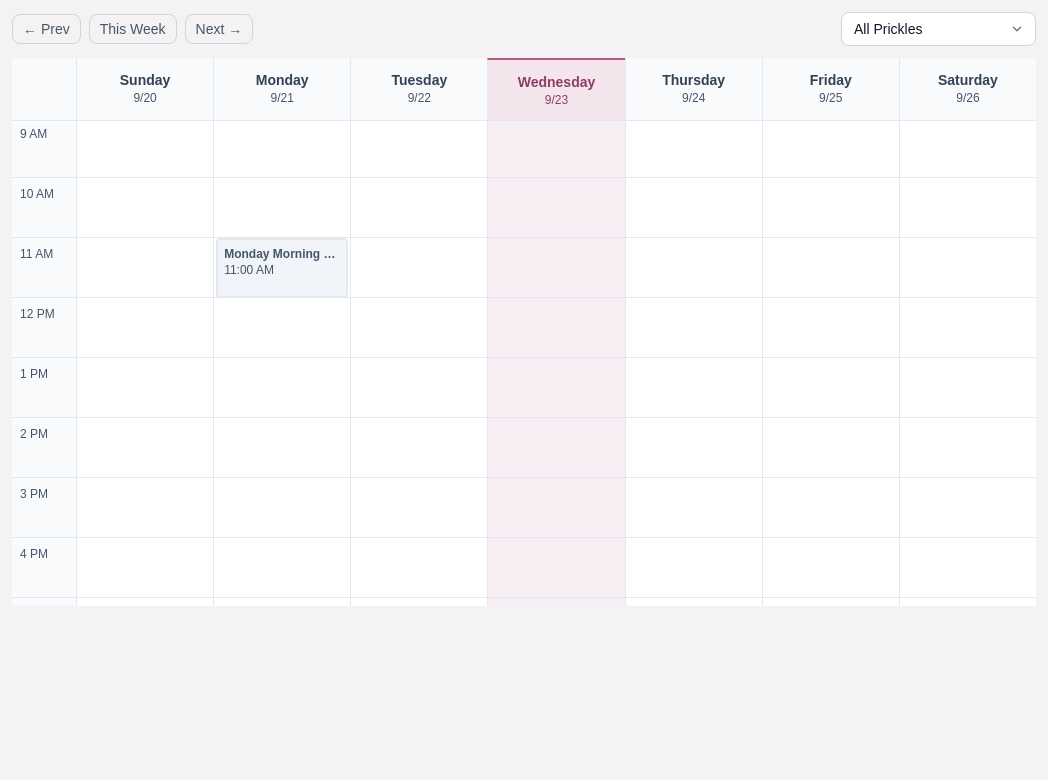
Scenario: AllPricklesCalendar › disables Next at the week containing the end of the upcoming window
(page scrolled)
Click the button "Next →": [219, 29] box left=185, top=14, right=253, bottom=44
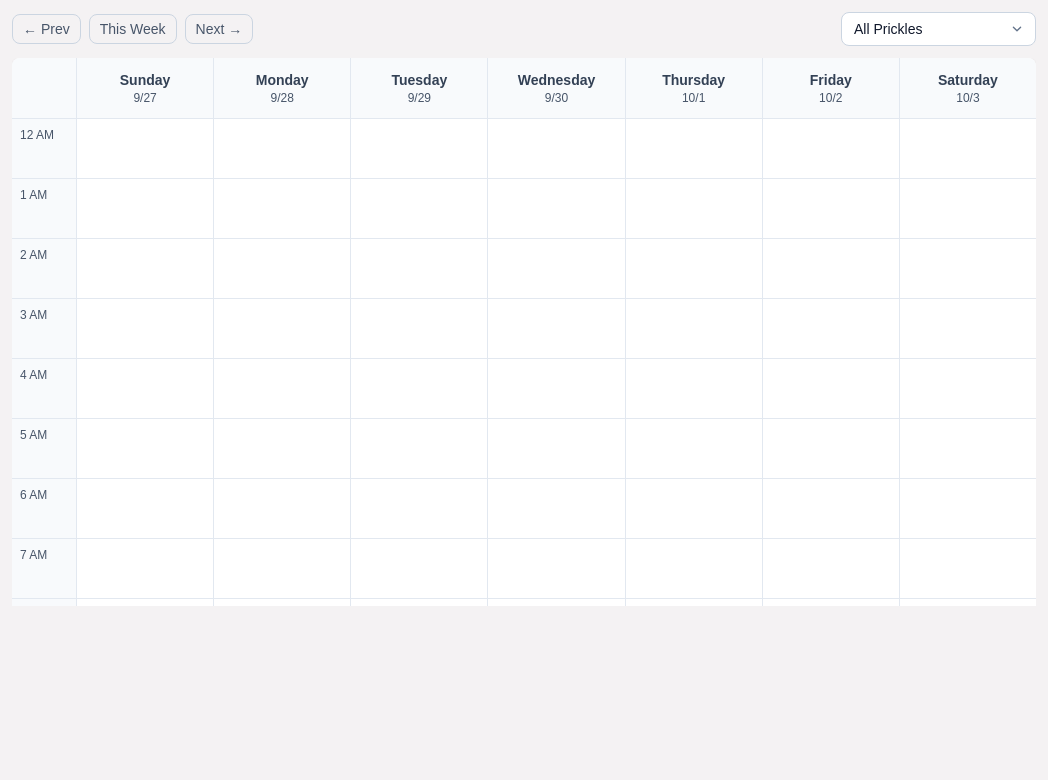
Now the text "9/27" is shown, box left=133, top=91, right=157, bottom=105
Click the button "Next →": [219, 29] box left=185, top=14, right=253, bottom=44
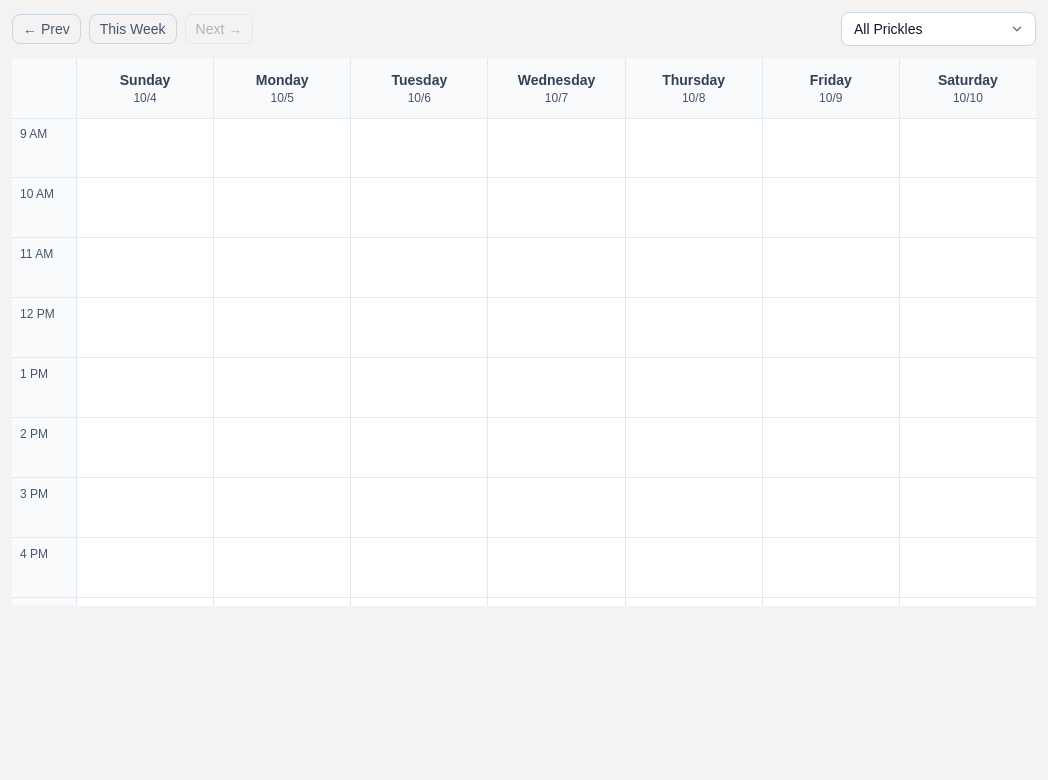
Expected: the button "← Prev" is enabled, left=12, top=14, right=81, bottom=44
Now the text "10/4" is shown, box left=133, top=91, right=157, bottom=105
Now the button "Next →" is disabled, box left=185, top=14, right=253, bottom=44
